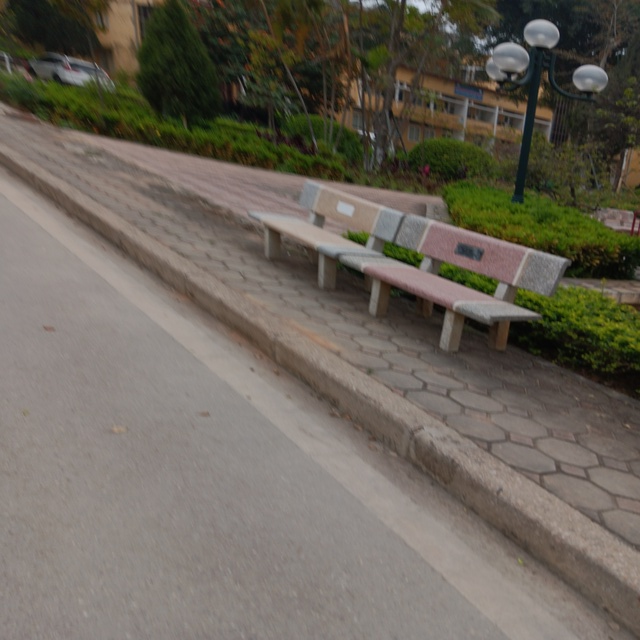gheda: (348, 215, 574, 354), (254, 176, 403, 298)
